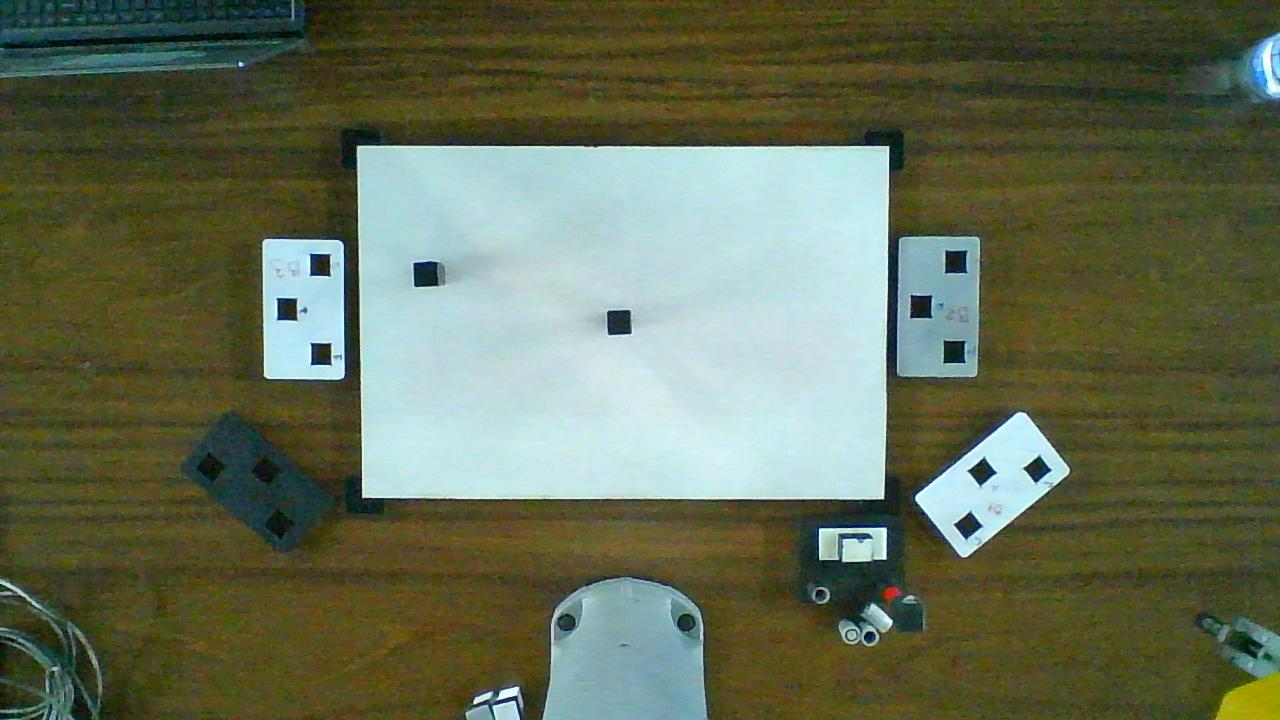peca_preta: (608, 311, 630, 334), (415, 263, 436, 286)
